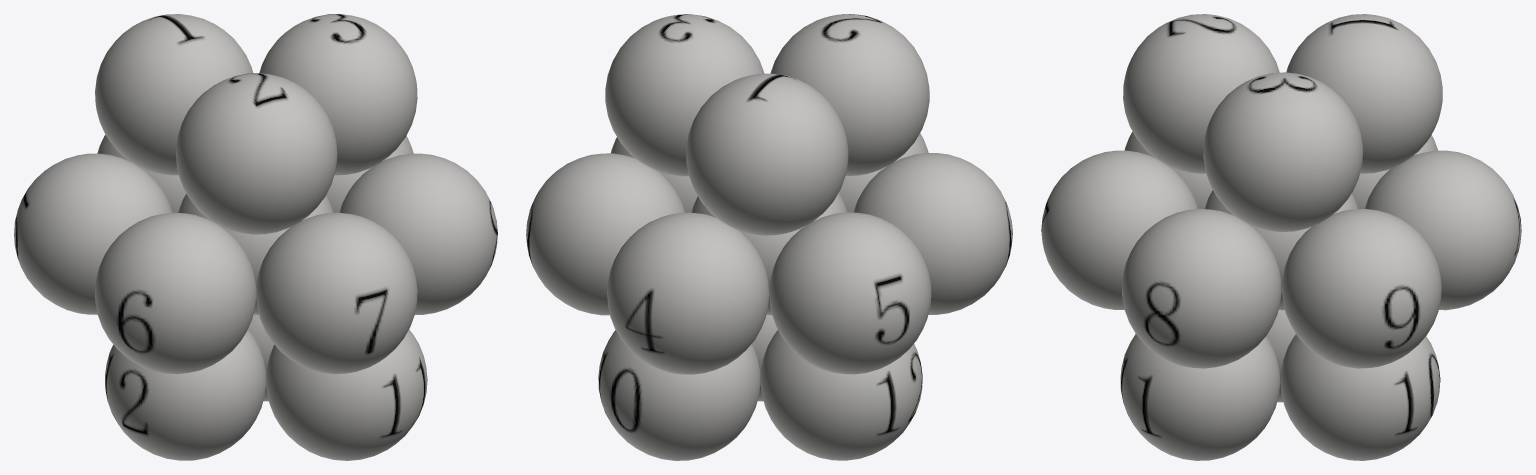
File: mianxin4_2.FBX
3 views of the same model, side by side, from view 1: azimuth 30°, elevation 25°; view 2: azimuth 150°, elevation 25°; view 3: azimuth 270°, elevation 25° (orthographic).
Visible parts, largest first — view 1: 对象205; view 2: 对象205; view 3: 对象205.
Boxes of the visible parts, <box> form: 对象205: <box>14,14,497,460</box>; 对象205: <box>526,14,1012,460</box>; 对象205: <box>1041,14,1521,460</box>.
Bounding box in the file's own units: 109 × 107 × 120.
